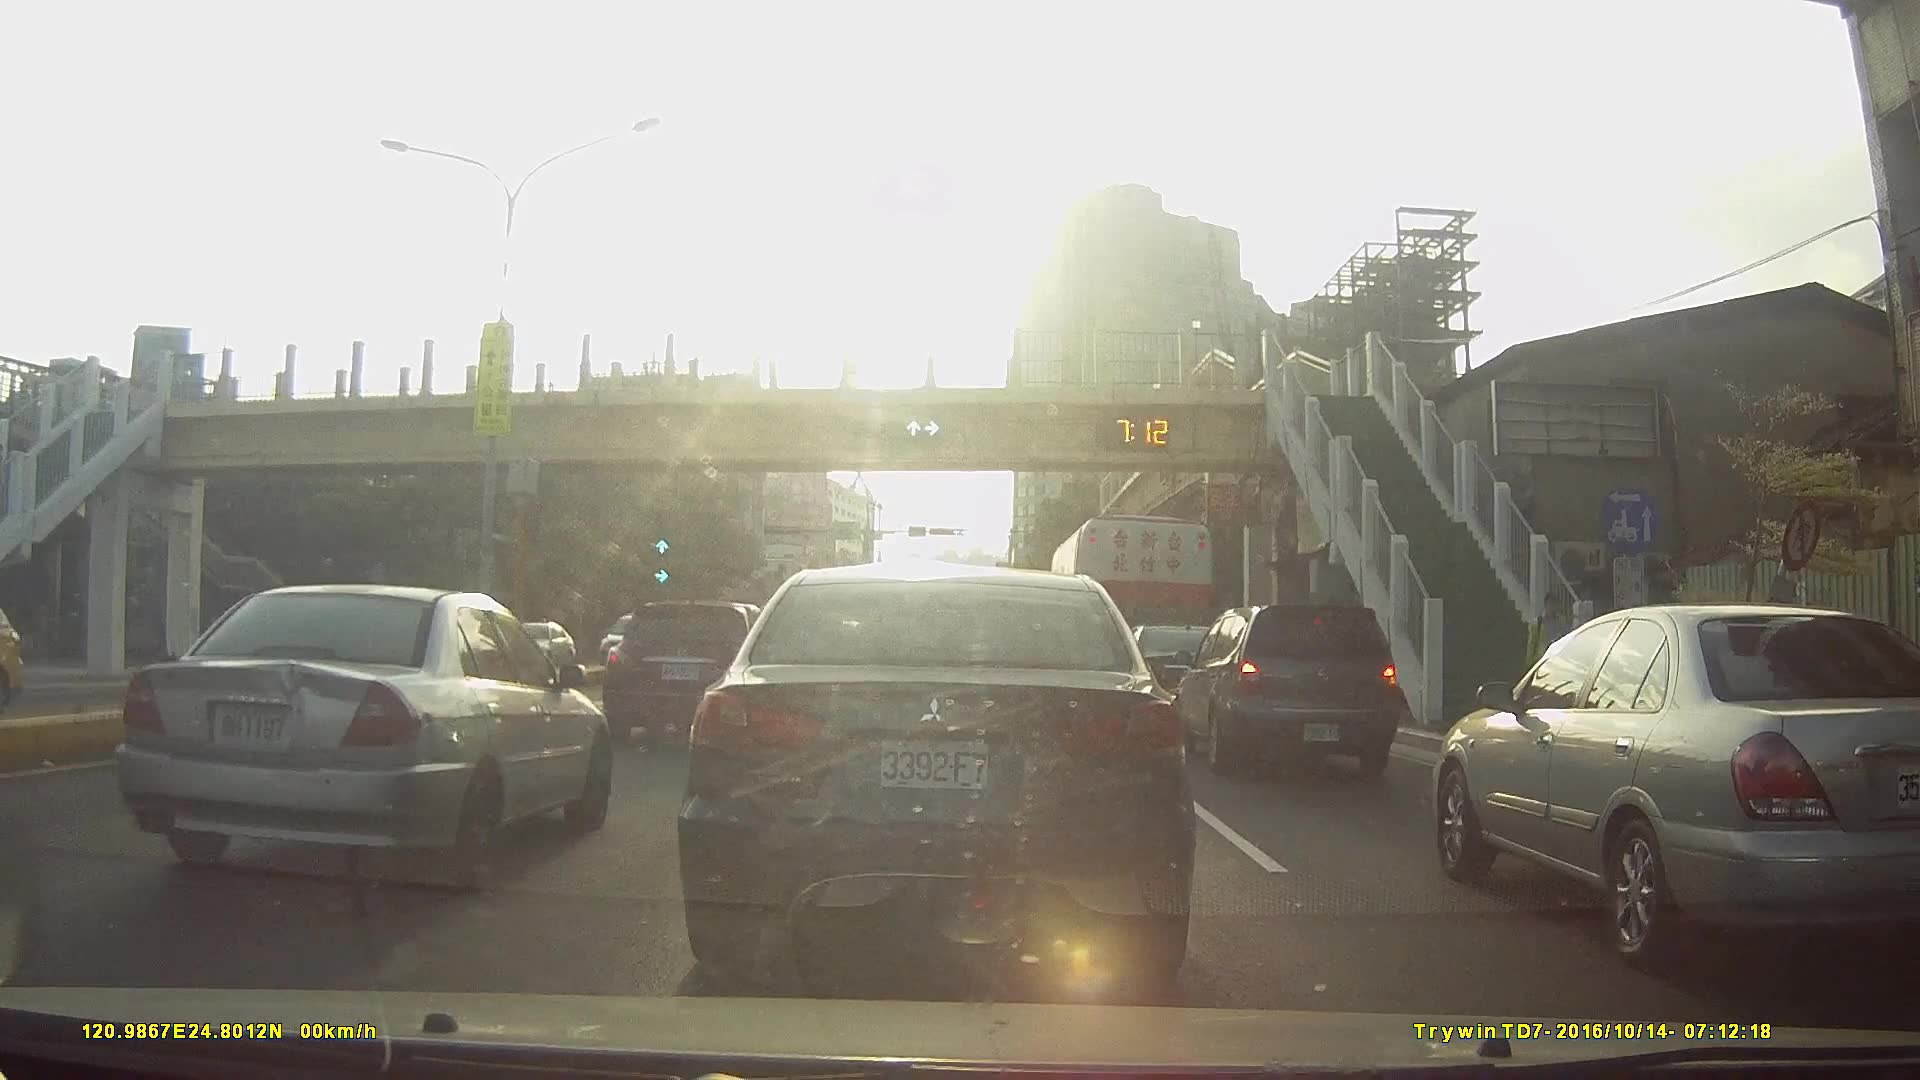pedestrian: (1533, 602, 1580, 720)
vehicle: (679, 565, 1193, 988), (1429, 601, 1920, 965), (138, 583, 620, 872), (1170, 604, 1414, 778), (601, 603, 784, 744), (1098, 615, 1244, 732), (591, 611, 670, 669), (1, 594, 38, 714), (500, 620, 579, 671)
